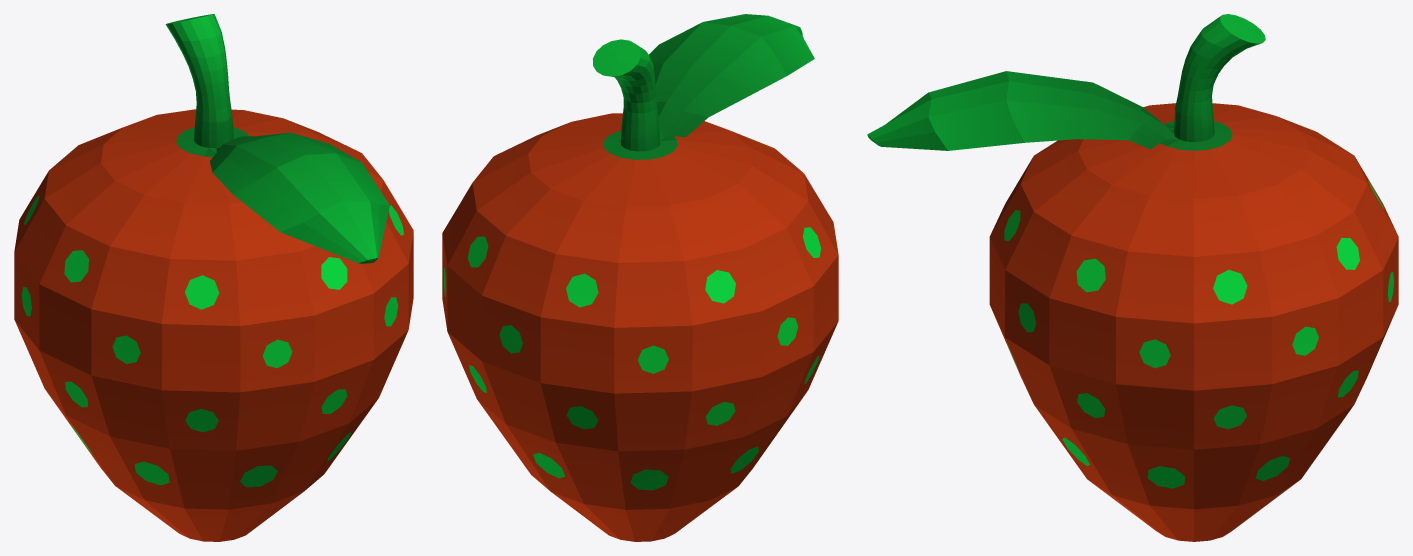
Rendered from strawberry.glb.
The picture shows the model from 3 angles, left to right: view 1: azimuth 30°, elevation 25°; view 2: azimuth 150°, elevation 25°; view 3: azimuth 270°, elevation 25°; orthographic projection. The views are drawn at different scales.
Parts seen in each view (by area): view 1: Sphere; view 2: Sphere; view 3: Sphere.
Boxes of the visible parts, bbox=[...] form: Sphere: bbox=[14, 14, 413, 541]; Sphere: bbox=[442, 14, 838, 541]; Sphere: bbox=[867, 14, 1398, 541].
Bounding box in the file's own units: 1.96 × 2.73 × 2.55.
Materials: 1 (1 with a texture image).
